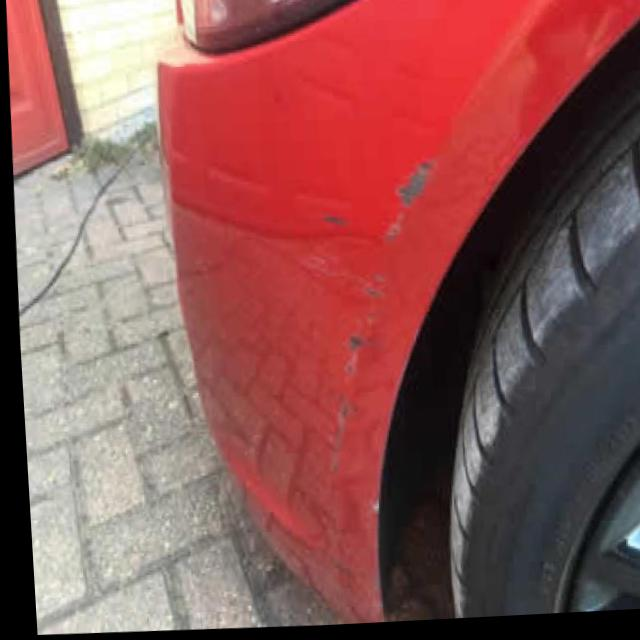Scratch: (297, 133, 459, 494)
